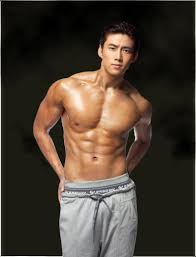asian_male: (82, 22, 146, 80)
